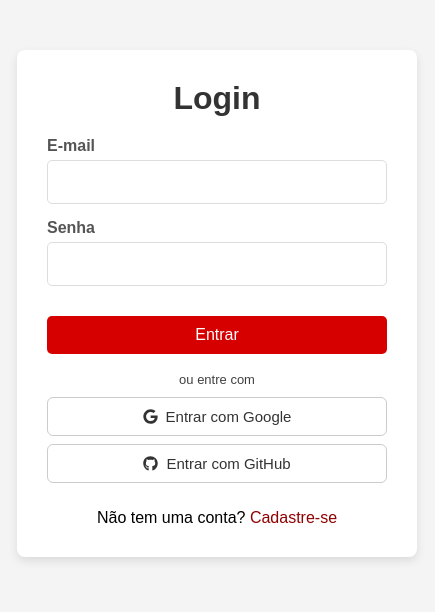
Scenario: Login — credencial inválida (AC-AUTH-02, AC-AUTH-05) › mostra a mensagem no formulário, sem alert, e não navega
This screenshot has width=435, height=612.
Type "ana@senai.br" into the field labelled "E-mail" at (217, 182), box x1=47 y1=160 x2=387 y2=204
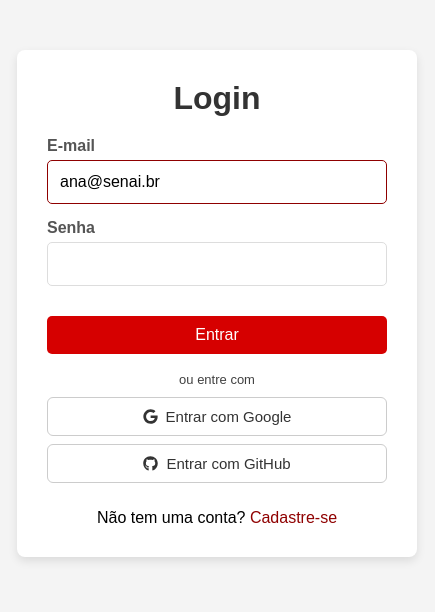
Type "errada" into the password field labelled "Senha" at (217, 264), box x1=47 y1=242 x2=387 y2=286
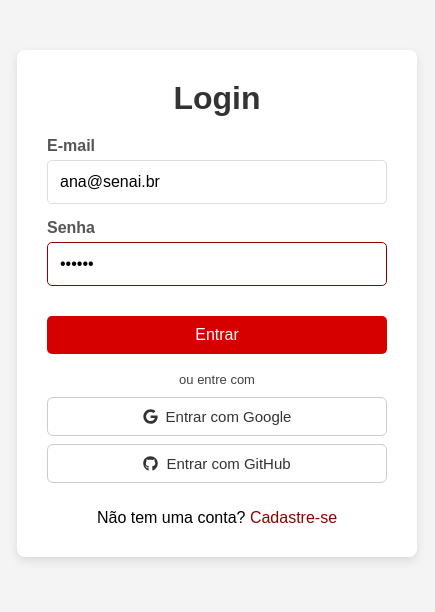
Click the button "Entrar" at (217, 334), box x1=47 y1=316 x2=387 y2=354
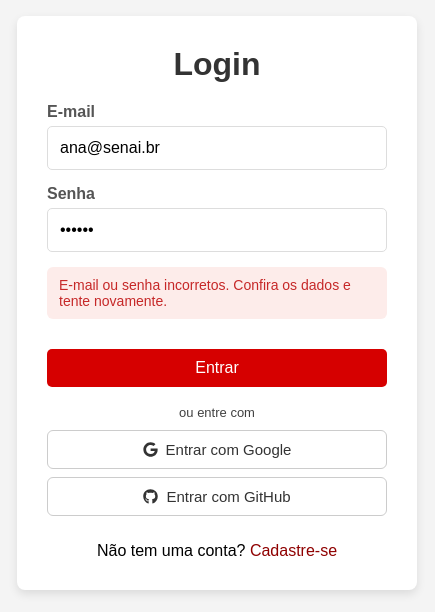
expect the message shows "E-mail ou senha incorretos": met, box x1=59 y1=277 x2=351 y2=309
